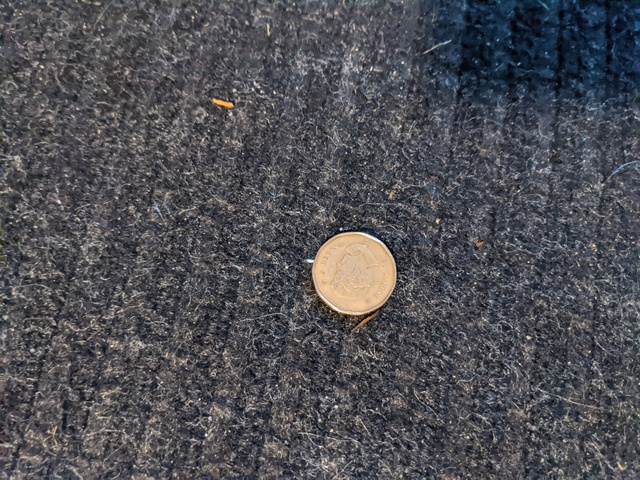loonie: (304, 213, 399, 320)
